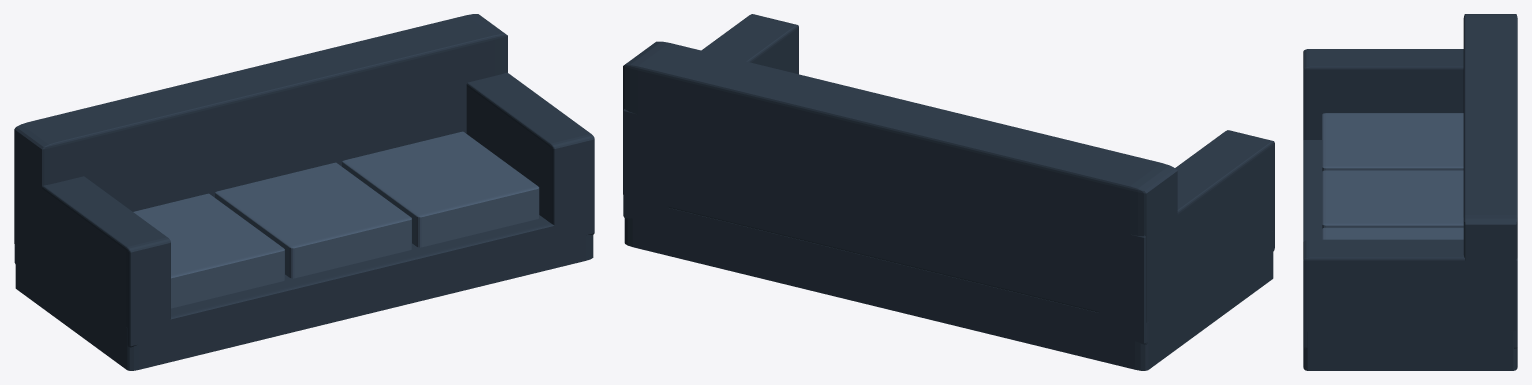
Rendered from sofa_3.glb.
The picture shows the model from 3 angles, left to right: view 1: azimuth 30°, elevation 25°; view 2: azimuth 150°, elevation 25°; view 3: azimuth 270°, elevation 25°; orthographic projection. The views are drawn at different scales.
Parts seen in each view (by area): view 1: Cube.001, Cube, Cube.002, Cube.006, Cube.005, Cube.003, Cube.004; view 2: Cube.001, Cube, Cube.002, Cube.003; view 3: Cube.003, Cube.001, Cube.002, Cube, Cube.004, Cube.005, Cube.006.
Part boxes in pixels (left/top/right/bottom): Cube.001: left=14, top=14, right=507, bottom=263; Cube: left=15, top=215, right=593, bottom=370; Cube.002: left=14, top=176, right=170, bottom=347; Cube.006: left=342, top=131, right=539, bottom=247; Cube.005: left=215, top=162, right=411, bottom=278; Cube.003: left=466, top=72, right=594, bottom=241; Cube.004: left=133, top=193, right=284, bottom=308; Cube.001: left=623, top=41, right=1177, bottom=322; Cube: left=624, top=199, right=1273, bottom=370; Cube.002: left=1099, top=130, right=1274, bottom=344; Cube.003: left=623, top=14, right=798, bottom=222; Cube.003: left=1303, top=239, right=1517, bottom=348; Cube.001: left=1463, top=14, right=1517, bottom=330; Cube.002: left=1303, top=49, right=1463, bottom=139; Cube: left=1303, top=140, right=1517, bottom=370; Cube.004: left=1322, top=113, right=1463, bottom=171; Cube.005: left=1322, top=170, right=1463, bottom=228; Cube.006: left=1322, top=227, right=1463, bottom=239.
Bounding box in the file's own units: 2.2 × 0.755 × 0.95.
